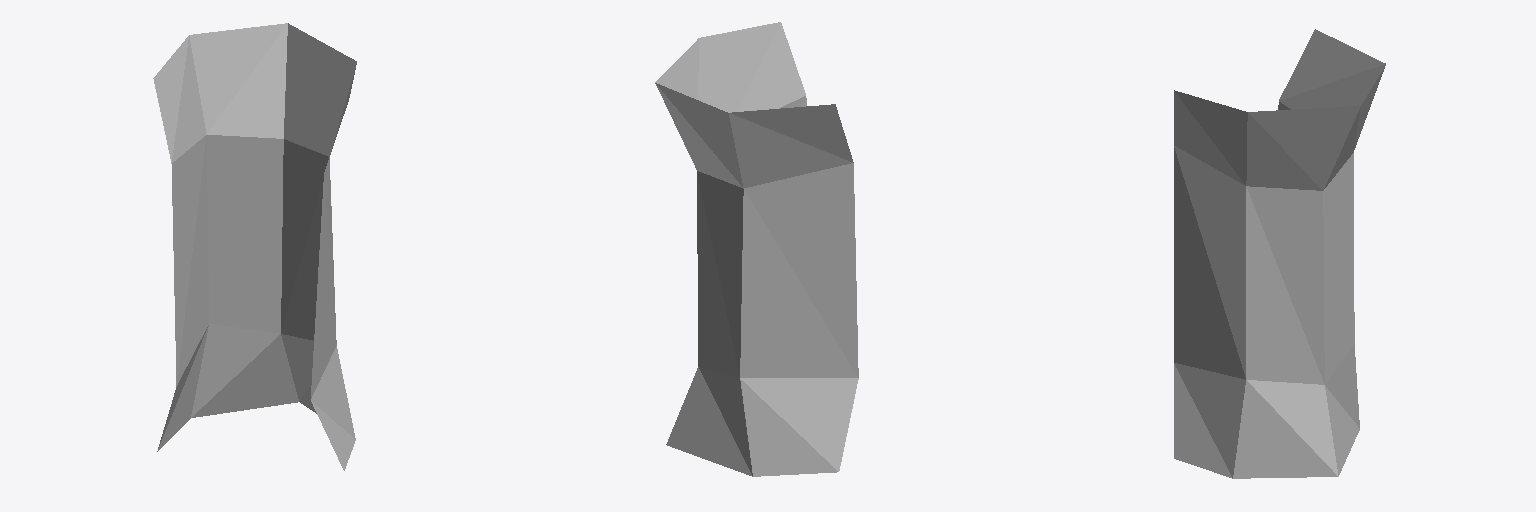
Rendered from corner_cave.obj.
3 renders of one model, left to right at view 1: azimuth 30°, elevation 25°; view 2: azimuth 150°, elevation 25°; view 3: azimuth 270°, elevation 25°, orthographic.
Parts seen in each view (by area): view 1: Grid.001; view 2: Grid.001; view 3: Grid.001.
Part boxes in pixels (x1,y1,x2,y2): Grid.001: (153, 23, 356, 470); Grid.001: (655, 22, 858, 476); Grid.001: (1174, 29, 1385, 478).
Bounding box in the file's own units: 0.8064 × 1.68 × 0.8725.